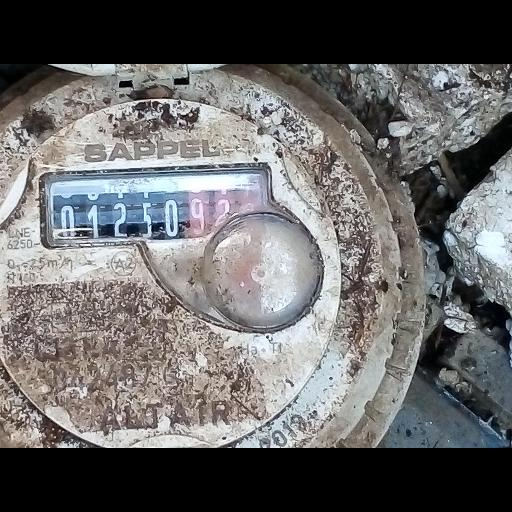0: (156, 191, 185, 242), (54, 195, 80, 240)
1: (80, 193, 107, 241)
2: (211, 189, 238, 233), (107, 193, 132, 240)
5: (129, 192, 157, 240)
9: (186, 190, 213, 238)
border_water_meter_number: (39, 162, 275, 248)
